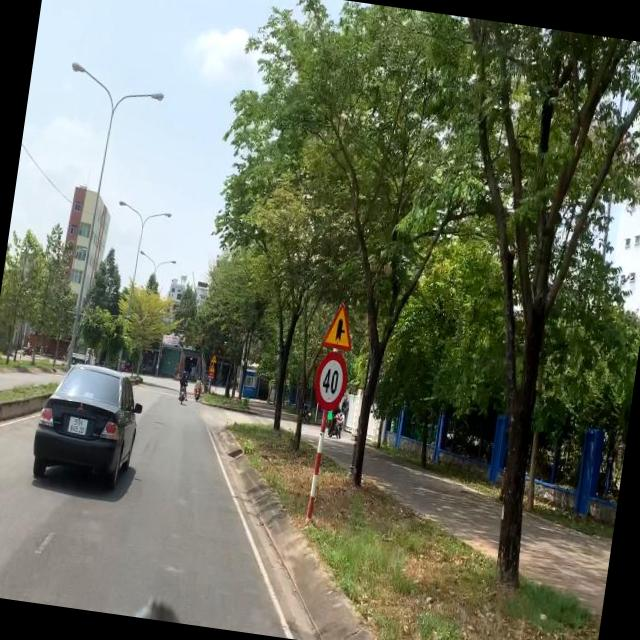P-127: (310, 349, 352, 413)
W-207b: (321, 299, 360, 353)
